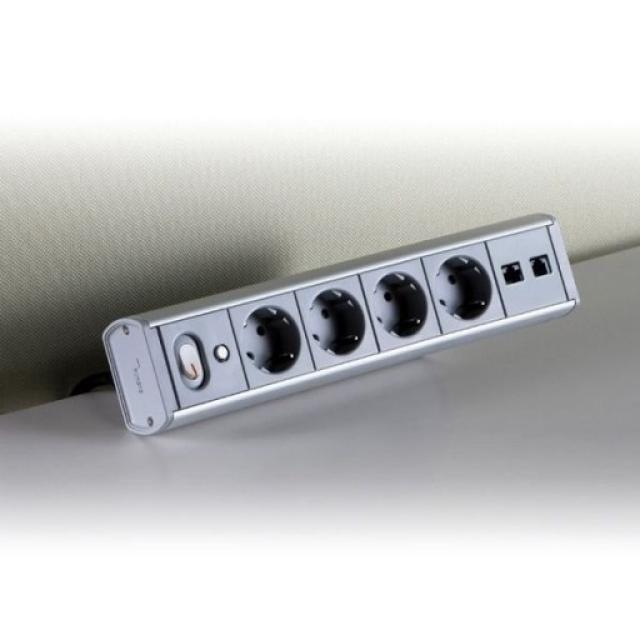typeb: (72, 205, 614, 472)
